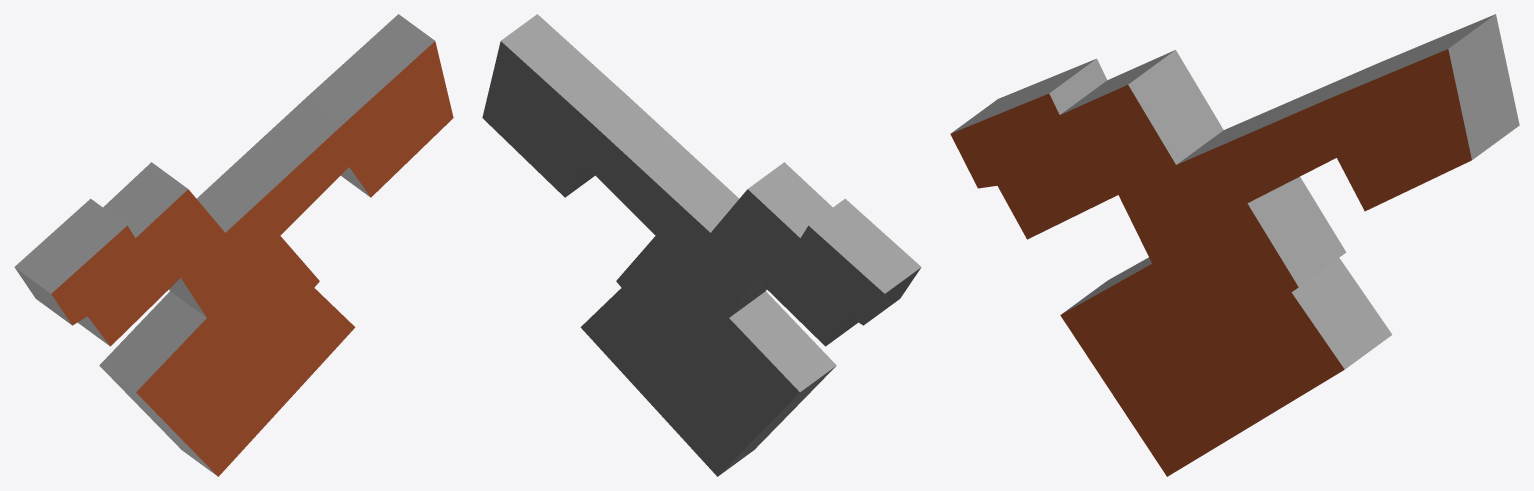
File: construction_5760_assumed_A_Casa_h6m.obj
3 views of the same model, side by side, from view 1: azimuth 30°, elevation 25°; view 2: azimuth 150°, elevation 25°; view 3: azimuth 330°, elevation 25° (orthographic). The views are drawn at different scales.
Parts seen in each view (by area): view 1: construction_5760_assumed_A_Casa; view 2: construction_5760_assumed_A_Casa; view 3: construction_5760_assumed_A_Casa.
Part boxes in pixels (x1,y1,x2,y2): construction_5760_assumed_A_Casa: [14, 14, 453, 476]; construction_5760_assumed_A_Casa: [482, 14, 921, 476]; construction_5760_assumed_A_Casa: [950, 14, 1519, 476].
Bounding box in the file's own units: 37.9 × 34.47 × 6.
